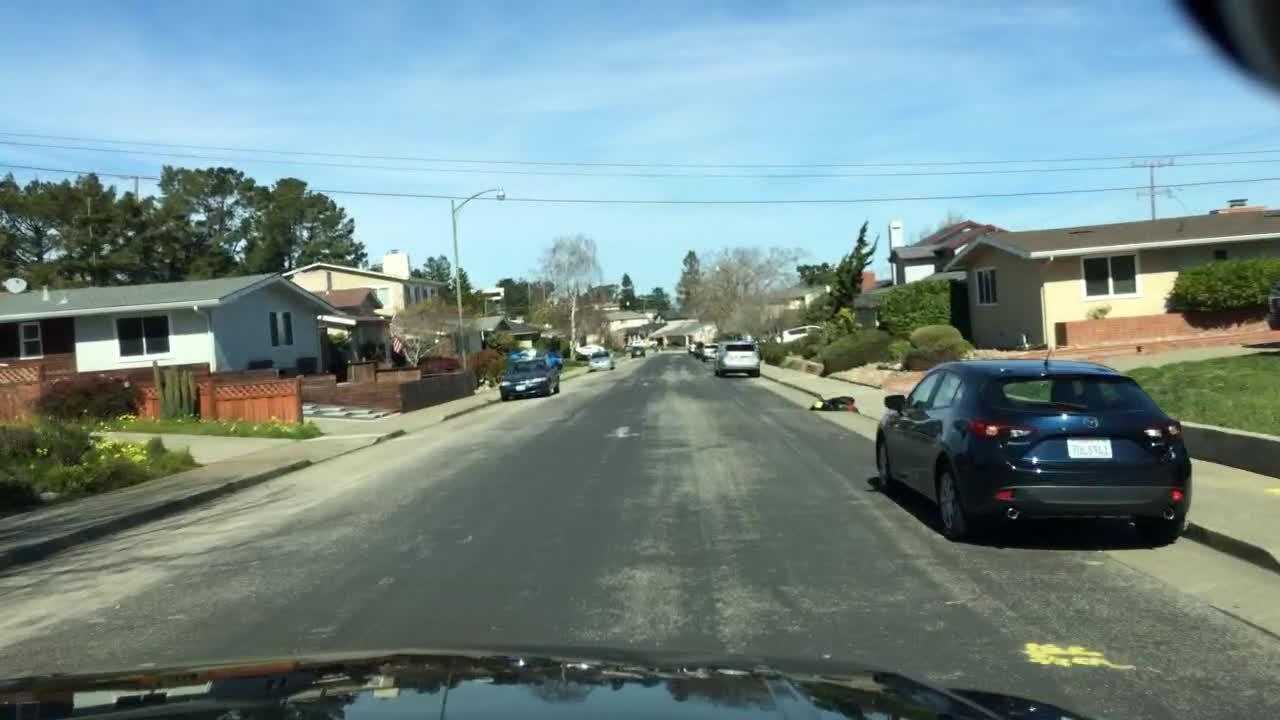Mazda: (1080, 409, 1100, 434)
